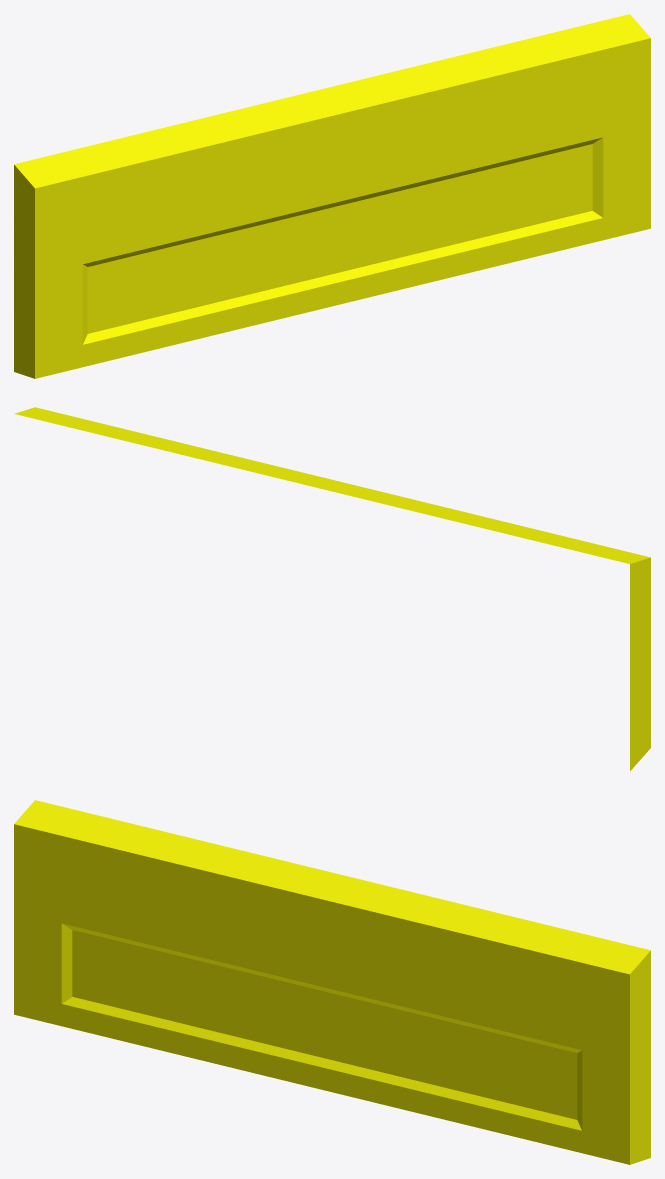
Rendered from trim-wall-guard.glb.
3 views of the same model, one above another, from view 1: azimuth 30°, elevation 25°; view 2: azimuth 150°, elevation 25°; view 3: azimuth 330°, elevation 25° (orthographic).
Parts seen in each view (by area): view 1: Trim_Wall_Guard; view 2: Trim_Wall_Guard; view 3: Trim_Wall_Guard.
Boxes of the visible parts, x1=… form: Trim_Wall_Guard: x1=14, y1=14, x2=650, y2=378; Trim_Wall_Guard: x1=14, y1=407, x2=650, y2=771; Trim_Wall_Guard: x1=14, y1=800, x2=650, y2=1164.
Bounding box in the file's own units: 2 × 0.6442 × 0.1185.
1 material, 1 textured.
